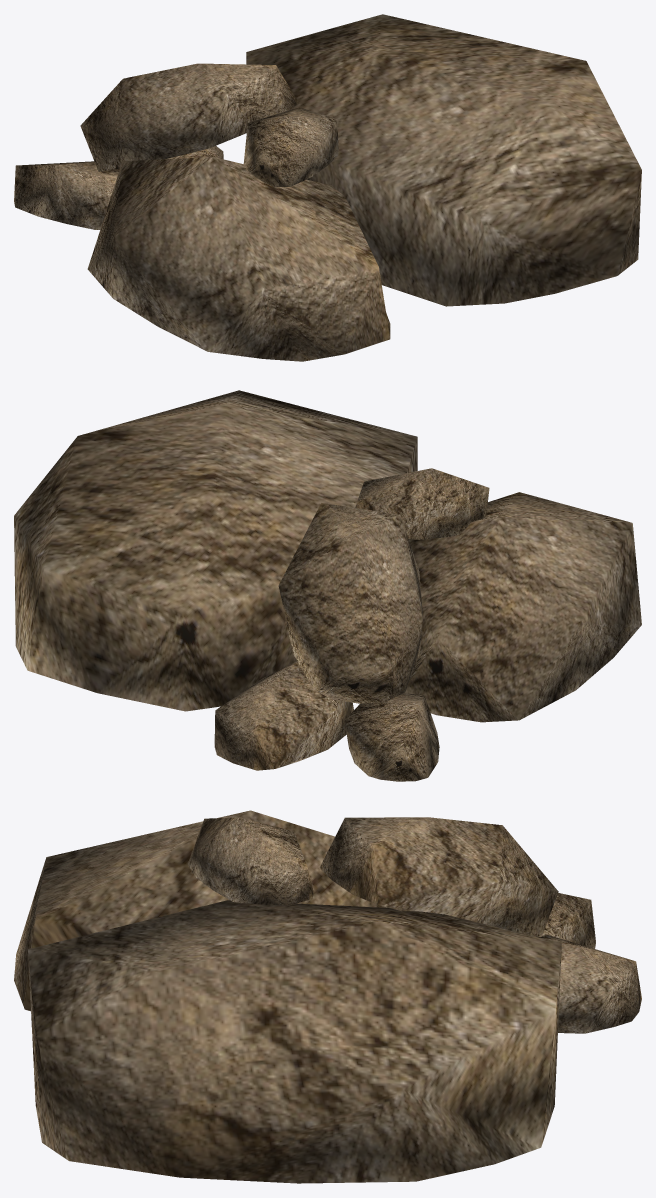
The model's file is stoneGroup4_tex1.fbx.
3 views of the same model, one above another, from view 1: azimuth 30°, elevation 25°; view 2: azimuth 150°, elevation 25°; view 3: azimuth 270°, elevation 25° (orthographic). The views are drawn at different scales.
Visible parts, largest first — view 1: stoneGroup4_tex1Object; view 2: stoneGroup4_tex1Object; view 3: stoneGroup4_tex1Object.
Part boxes in pixels (x1,y1,x2,y2): stoneGroup4_tex1Object: (14,14,641,361); stoneGroup4_tex1Object: (14,390,641,781); stoneGroup4_tex1Object: (14,810,641,1183).
Bounding box in the file's own units: 1.85 × 0.5896 × 1.78.
Materials: 1 (1 with a texture image).
